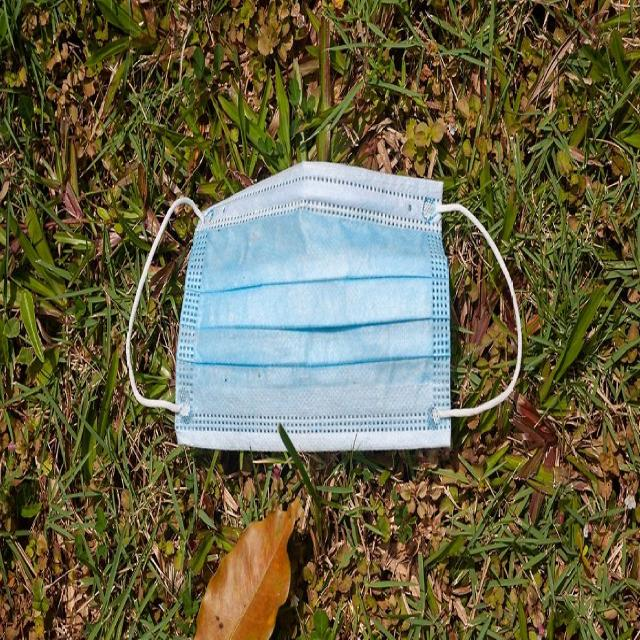non-organic waste: (128, 173, 520, 454)
